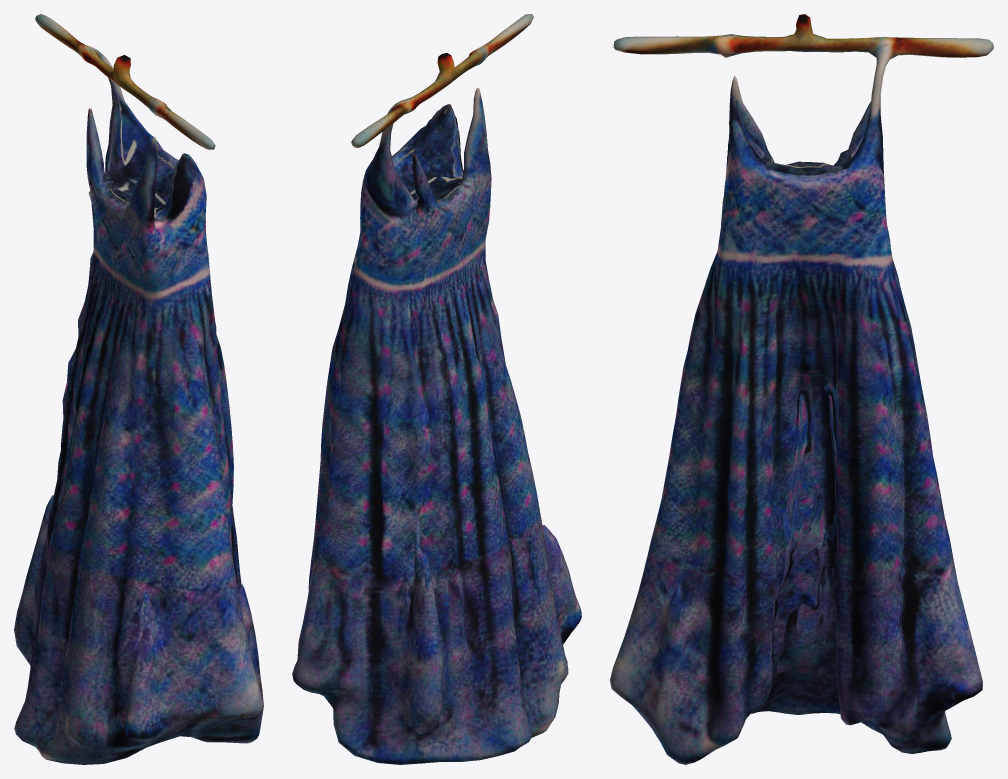
File: hanging_dress.fbx
The picture shows the model from 3 angles, left to right: view 1: azimuth 30°, elevation 25°; view 2: azimuth 150°, elevation 25°; view 3: azimuth 270°, elevation 25°; orthographic projection. The views are drawn at different scales.
Visible parts, largest first — view 1: mesh; view 2: mesh; view 3: mesh.
Part boxes in pixels (<box>): mesh: <box>14,14,263,764</box>; mesh: <box>292,14,581,764</box>; mesh: <box>610,14,993,764</box>.
Bounding box in the file's own units: 30.6 × 99.78 × 47.67.
